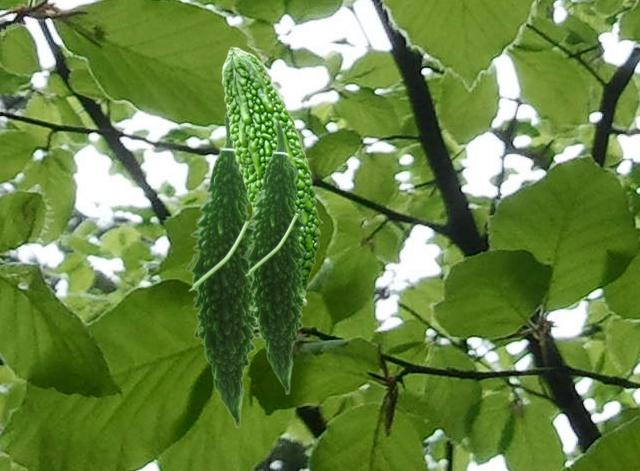ampalaya: (220, 46, 323, 306), (185, 111, 257, 430), (242, 119, 315, 396)
